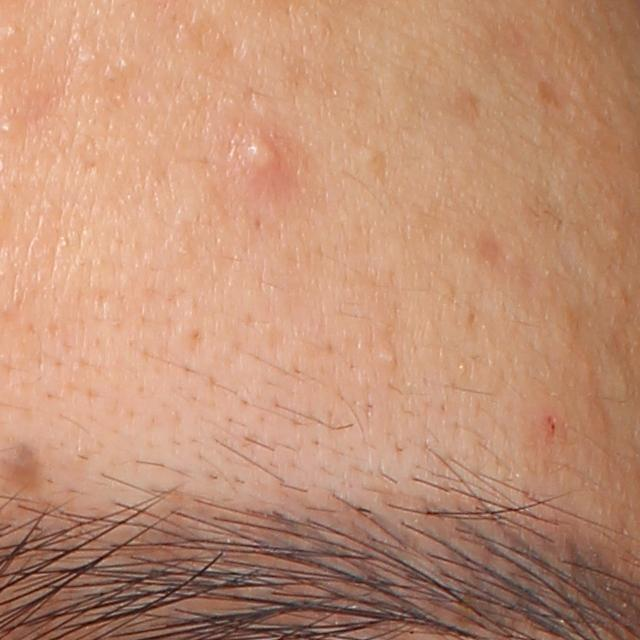pustule: (223, 120, 307, 198)
